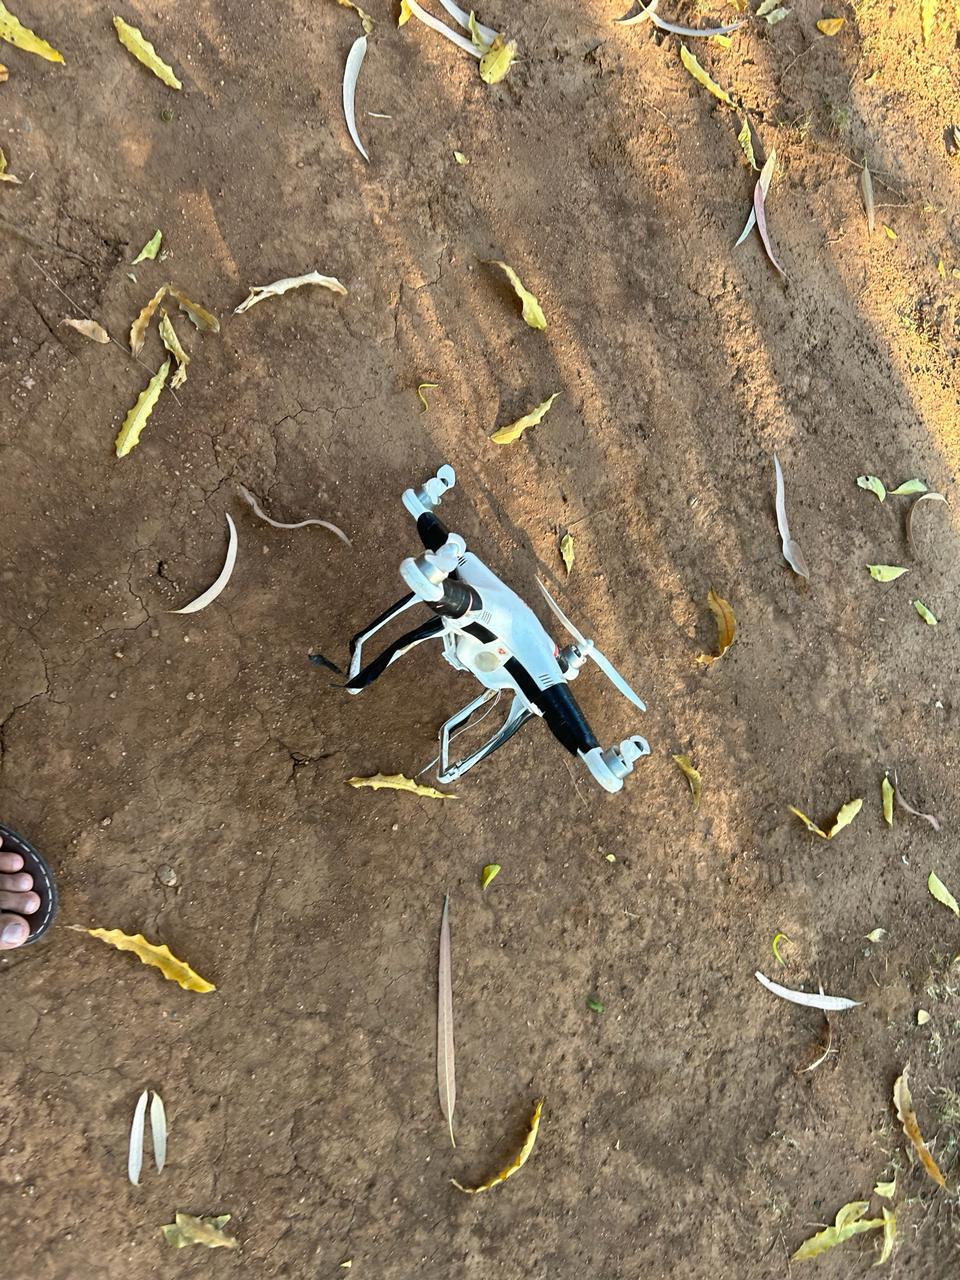drone: (267, 424, 735, 890)
